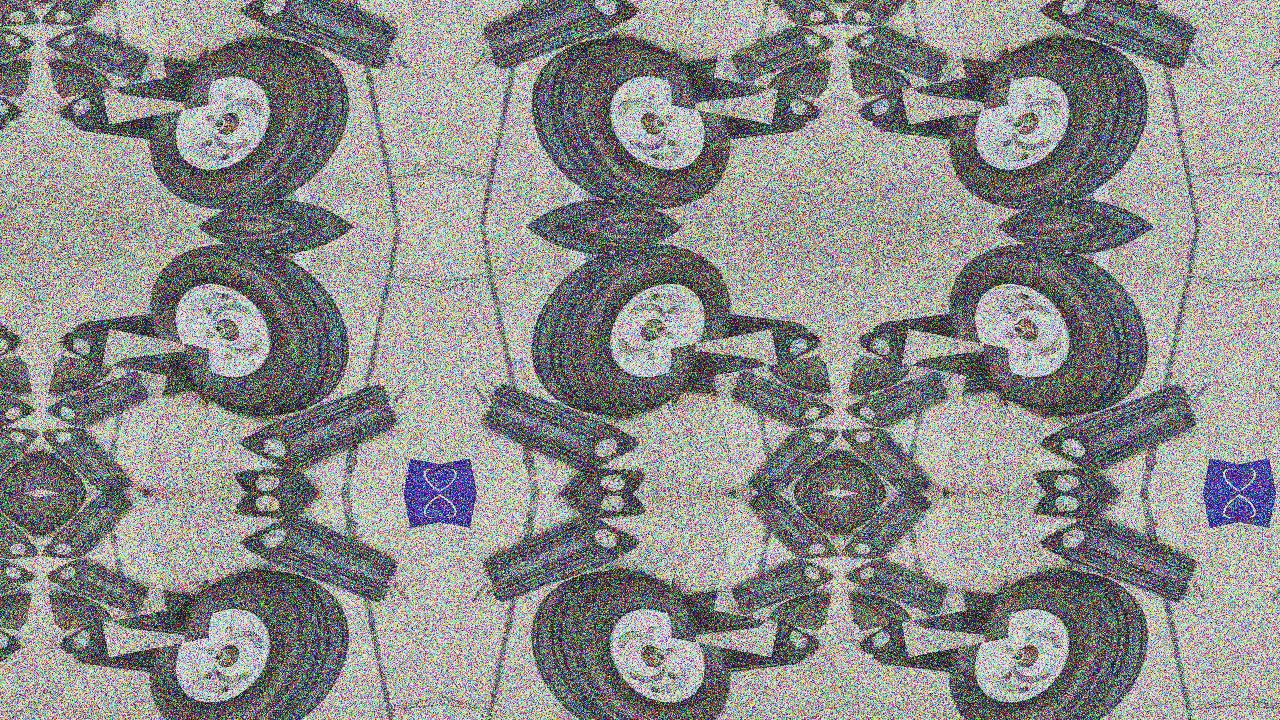chock: (237, 359, 423, 492), (457, 359, 643, 492), (1037, 359, 1223, 492), (237, 495, 423, 628), (457, 495, 643, 628), (1037, 495, 1223, 628), (237, 0, 423, 94), (457, 0, 643, 94), (1037, 0, 1223, 94), (54, 290, 186, 383), (694, 290, 826, 383), (854, 290, 986, 383), (54, 71, 186, 163), (694, 71, 826, 163), (854, 71, 986, 163), (54, 604, 186, 696), (694, 604, 826, 696), (854, 604, 986, 696), (43, 11, 166, 99), (714, 11, 837, 99), (843, 11, 966, 99), (43, 354, 166, 442), (714, 354, 837, 442), (843, 354, 966, 442), (43, 545, 166, 632), (714, 545, 837, 632), (843, 545, 966, 632), (96, 329, 218, 415), (662, 329, 784, 415), (896, 329, 1018, 415), (96, 572, 218, 658), (662, 572, 784, 658), (896, 572, 1018, 658), (96, 39, 218, 124), (662, 39, 784, 124), (896, 39, 1018, 124), (40, 421, 153, 493), (727, 421, 840, 493), (840, 421, 953, 493), (40, 493, 153, 565), (727, 493, 840, 565), (840, 493, 953, 565), (40, 0, 153, 32), (727, 0, 840, 32), (840, 0, 953, 32), (69, 493, 192, 520), (688, 493, 811, 520), (869, 493, 992, 520), (0, 11, 37, 99), (0, 354, 37, 442), (0, 545, 37, 632), (69, 467, 192, 493), (688, 467, 811, 493), (869, 467, 992, 493), (1257, 359, 1280, 492), (1257, 495, 1280, 628), (0, 421, 40, 493), (0, 493, 40, 565), (0, 290, 26, 383), (0, 71, 26, 163), (0, 604, 26, 696), (1257, 0, 1280, 94), (0, 0, 40, 32), (0, 493, 11, 520), (0, 467, 11, 493)
wheel: (133, 24, 362, 221), (518, 24, 747, 221), (933, 24, 1162, 221), (133, 232, 362, 429), (518, 232, 747, 429), (933, 232, 1162, 429), (133, 557, 362, 720), (518, 557, 747, 720), (933, 557, 1162, 720)
